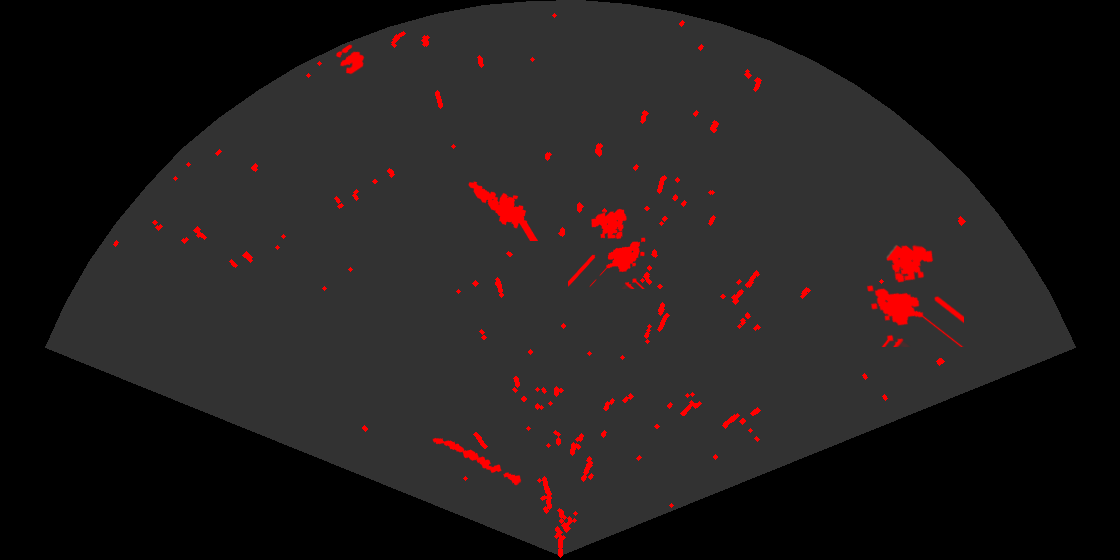ball: (334, 43, 366, 76)
cage: (865, 243, 964, 347), (568, 207, 647, 289)
chain: (431, 436, 523, 487)
frogman: (467, 180, 538, 241)
